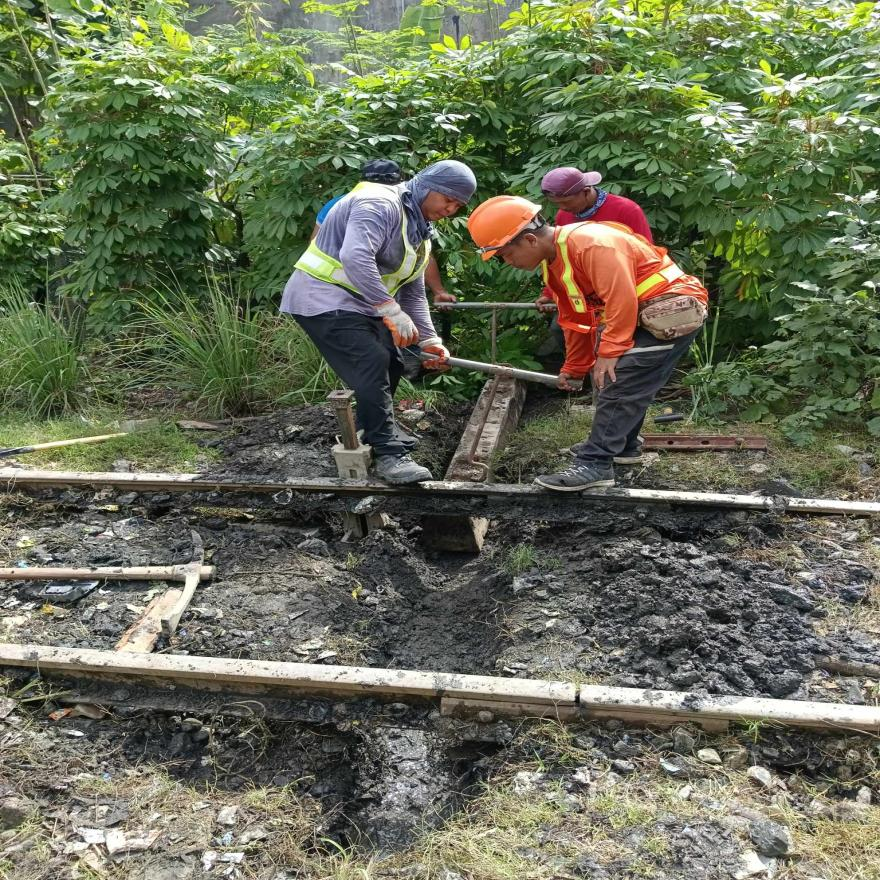railway-gap: (536, 660, 618, 728)
